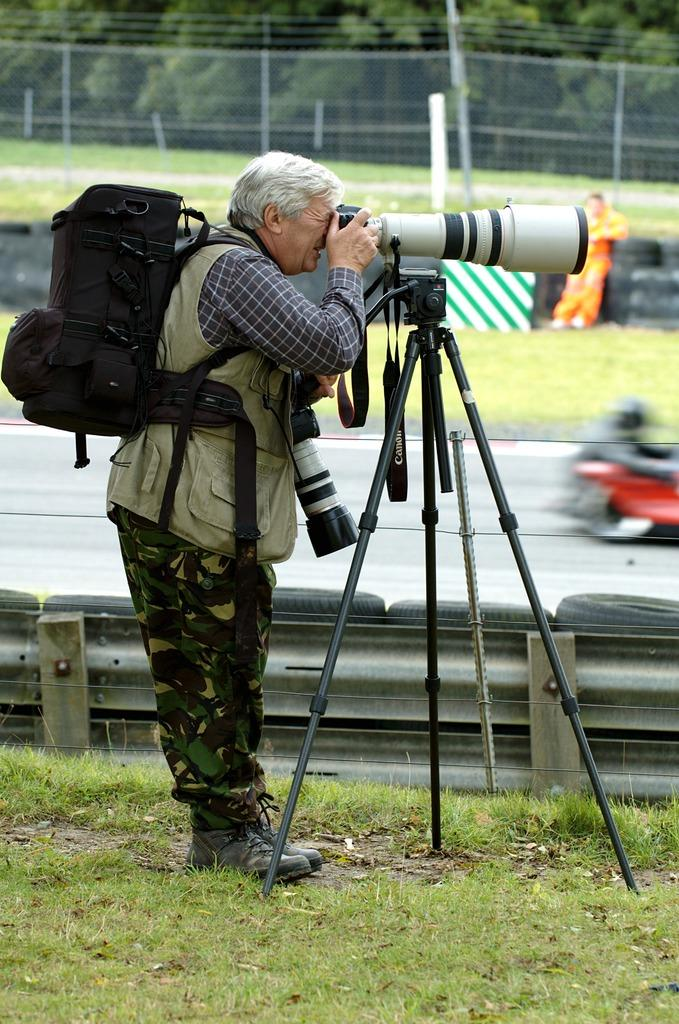Luggage-and-bags: (0, 171, 274, 563)
